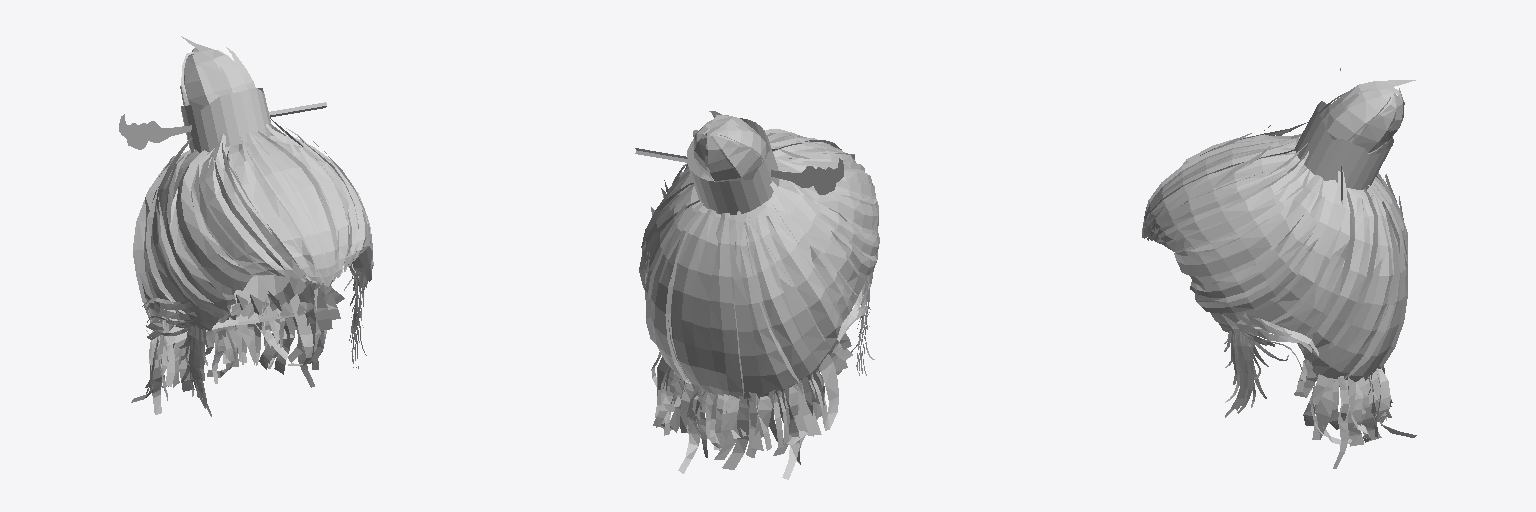
The picture shows the model from 3 angles: view 1: azimuth 30°, elevation 25°; view 2: azimuth 150°, elevation 25°; view 3: azimuth 270°, elevation 25°; orthographic projection.
Parts seen in each view (by area): view 1: group1 Mesh_0130_ncl1_1, Mesh_0042 group1; view 2: group1 Mesh_0130_ncl1_1, Mesh_0042 group1; view 3: group1 Mesh_0130_ncl1_1, Mesh_0042 group1.
Part boxes in pixels (bbox=[...]): group1 Mesh_0130_ncl1_1: bbox=[131, 36, 373, 416]; Mesh_0042 group1: bbox=[119, 88, 326, 152]; group1 Mesh_0130_ncl1_1: bbox=[639, 111, 879, 479]; Mesh_0042 group1: bbox=[635, 118, 843, 214]; group1 Mesh_0130_ncl1_1: bbox=[1142, 80, 1416, 468]; Mesh_0042 group1: bbox=[1295, 68, 1393, 204].
Size of the model in its own units: 38.13 by 59.39 by 42.87.